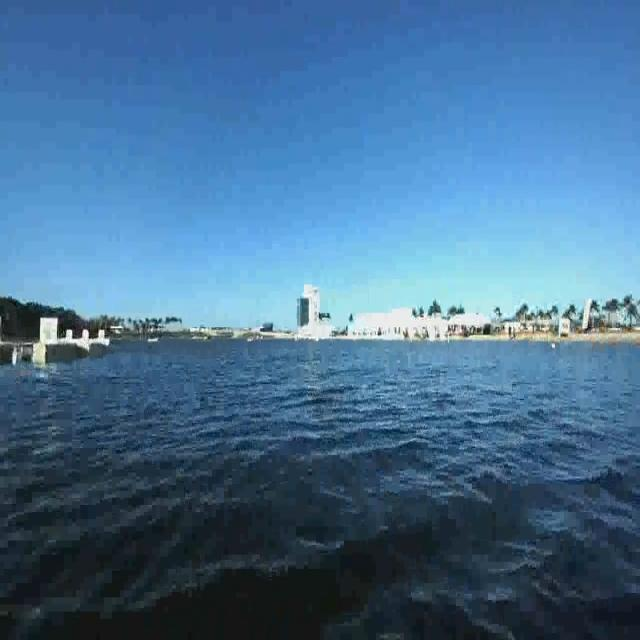blue-cross: (40, 317, 58, 345)
